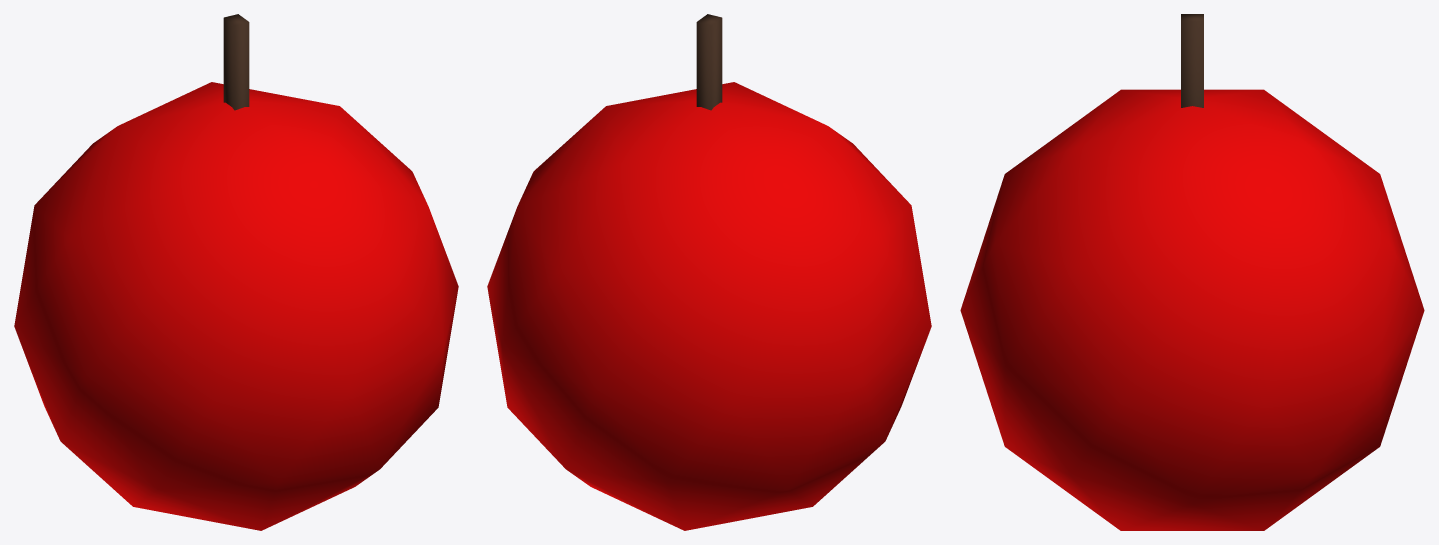
The model's file is Apple.fbx.
3 views of the same model, side by side, from view 1: azimuth 30°, elevation 25°; view 2: azimuth 150°, elevation 25°; view 3: azimuth 270°, elevation 25° (orthographic). The views are drawn at different scales.
Visible parts, largest first — view 1: Icosphere; view 2: Icosphere; view 3: Icosphere.
Part boxes in pixels (x1,y1,x2,y2): Icosphere: [14, 14, 458, 530]; Icosphere: [487, 14, 931, 530]; Icosphere: [960, 14, 1424, 530].
Size of the model in its own units: 190 by 239 by 200.
